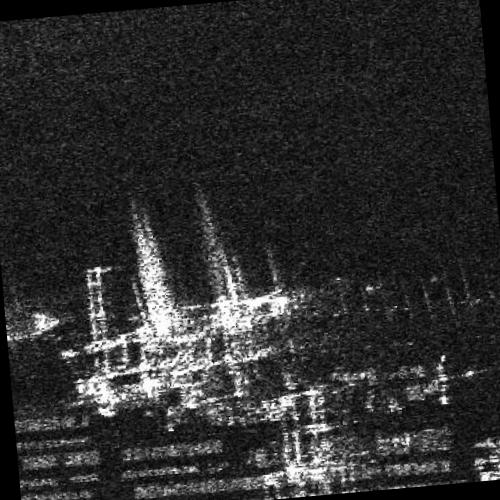ship: (131, 287, 311, 349)
